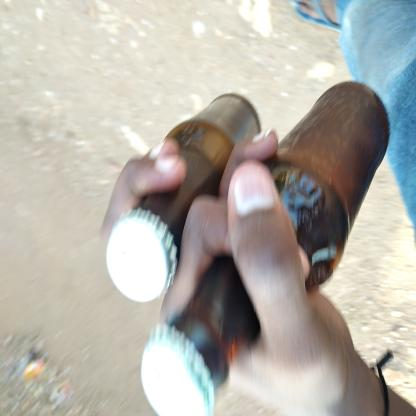bottle: (25, 1, 280, 338), (157, 115, 311, 325)
